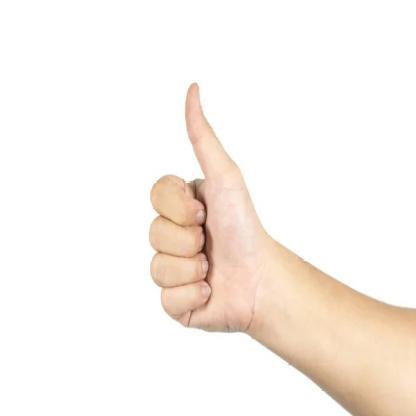thumb_up: (148, 81, 256, 335)
